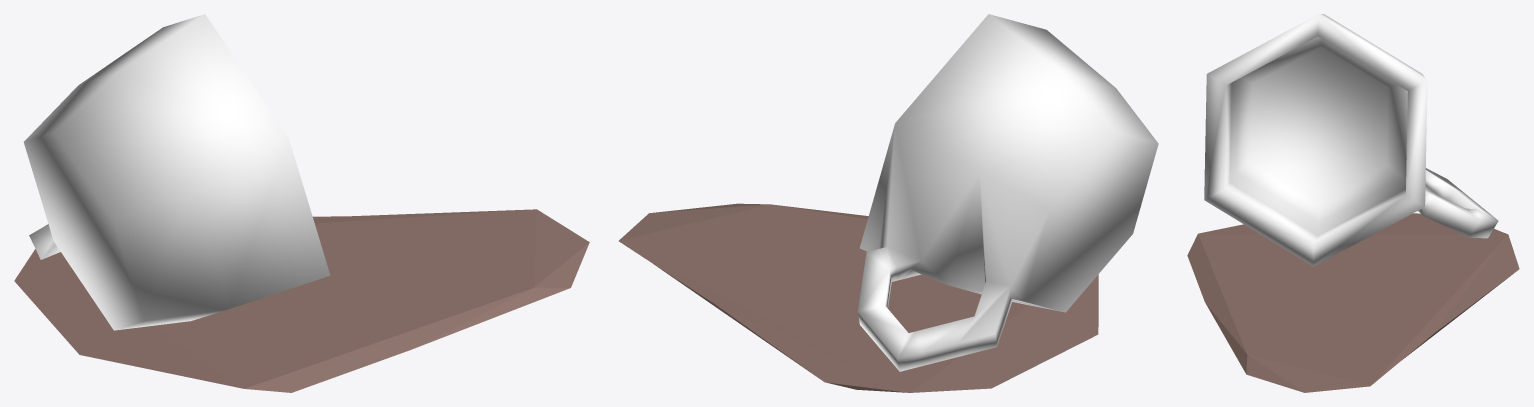
Rendered from spilledTea.fbx.
3 views of the same model, side by side, from view 1: azimuth 30°, elevation 25°; view 2: azimuth 150°, elevation 25°; view 3: azimuth 270°, elevation 25° (orthographic). The views are drawn at different scales.
Visible parts, largest first — view 1: cupTea, spilledLiquid; view 2: cupTea, spilledLiquid; view 3: cupTea, spilledLiquid.
Boxes of the visible parts, x1=… form: cupTea: x1=23, y1=14, x2=330, y2=330; spilledLiquid: x1=14, y1=209, x2=589, y2=392; cupTea: x1=857, y1=14, x2=1158, y2=371; spilledLiquid: x1=618, y1=203, x2=1098, y2=392; cupTea: x1=1204, y1=14, x2=1498, y2=266; spilledLiquid: x1=1187, y1=213, x2=1519, y2=392.
Bounding box in the file's own units: 44.77 × 26.1 × 32.46.
